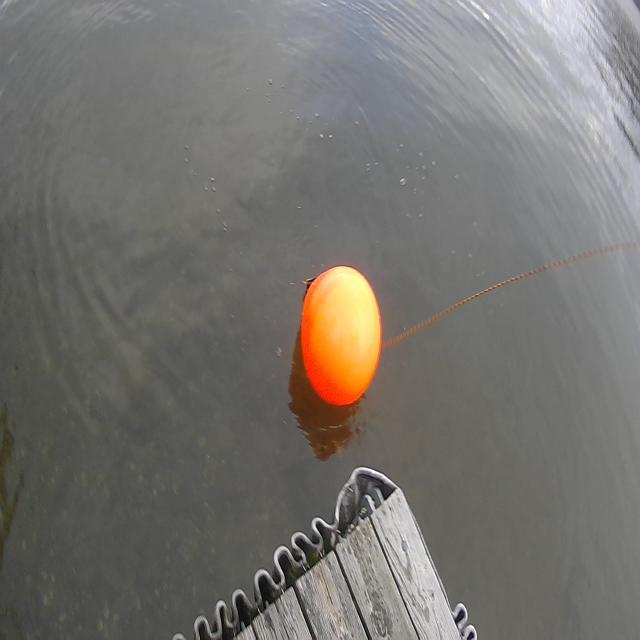Buoy: (292, 255, 386, 421)
